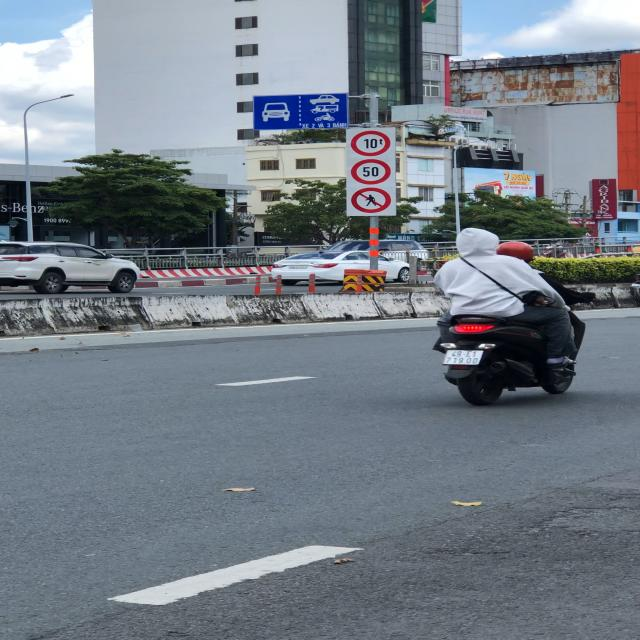Bien bao cam nguoi di bo: (349, 186, 396, 215)
Bien bao toc do toi da cho phep: (350, 157, 392, 186)
